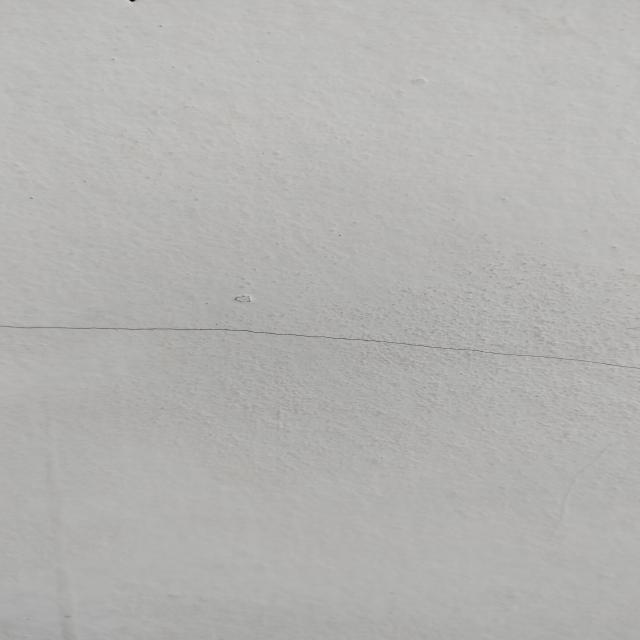Crack: (2, 324, 639, 372)
